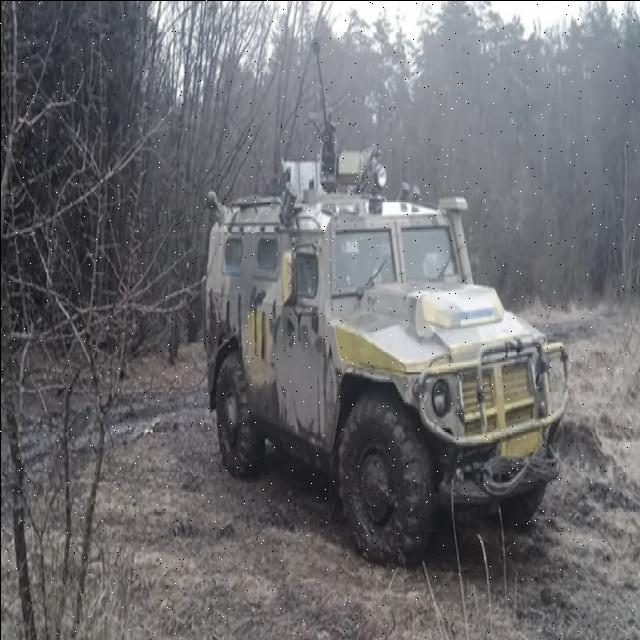CAR: (204, 155, 570, 558)
